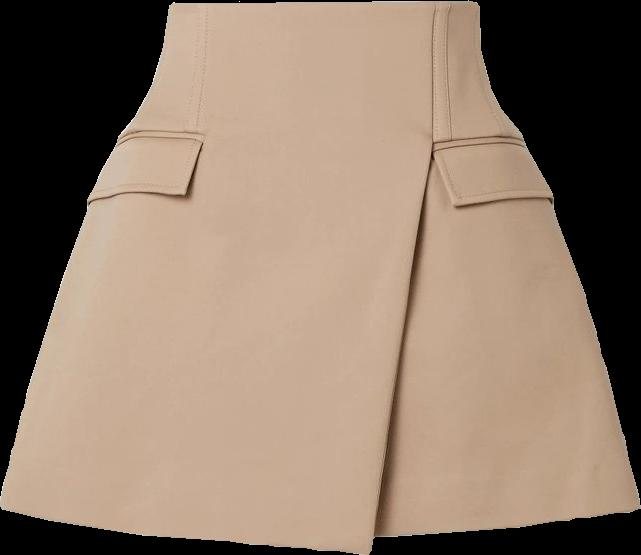Hemline: (0, 135, 523, 554), (371, 502, 640, 542)
Waistline: (169, 0, 479, 10)
